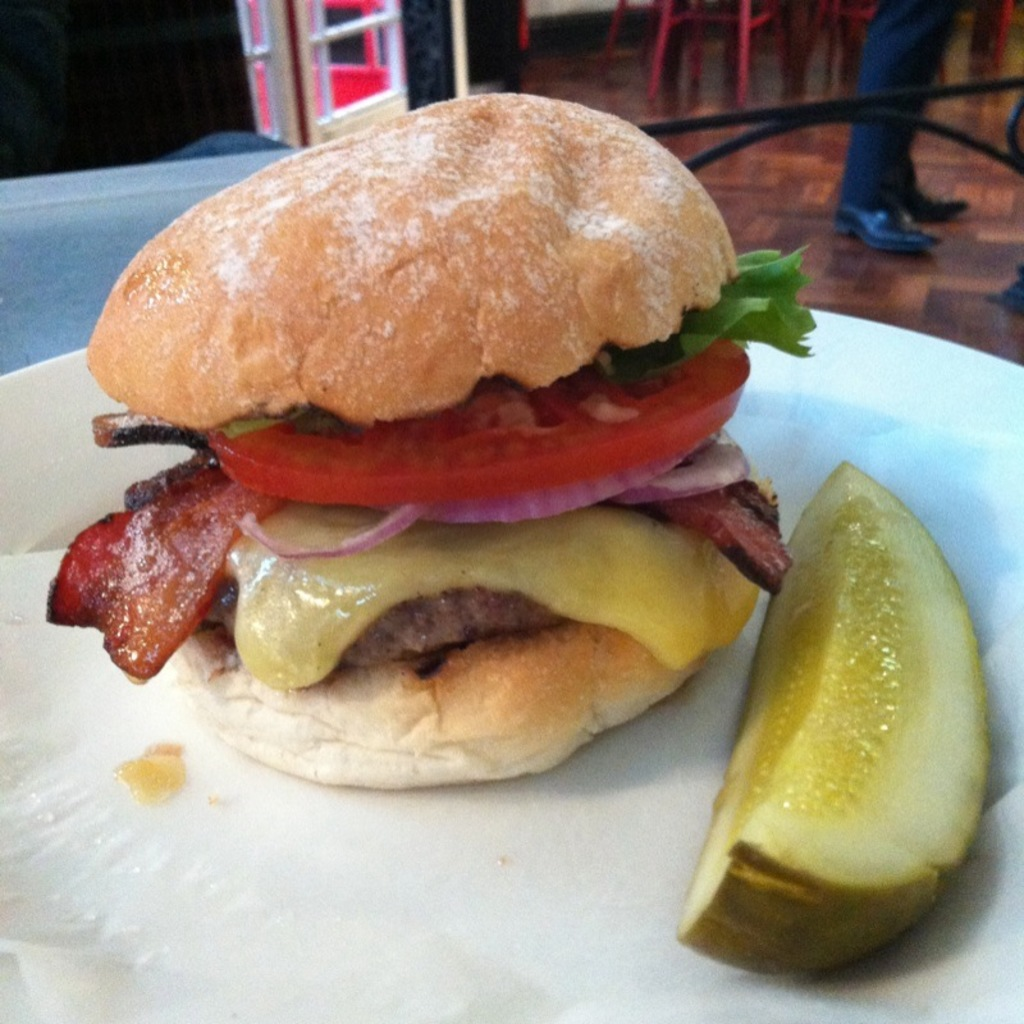Hamburger: (42, 89, 815, 792)
